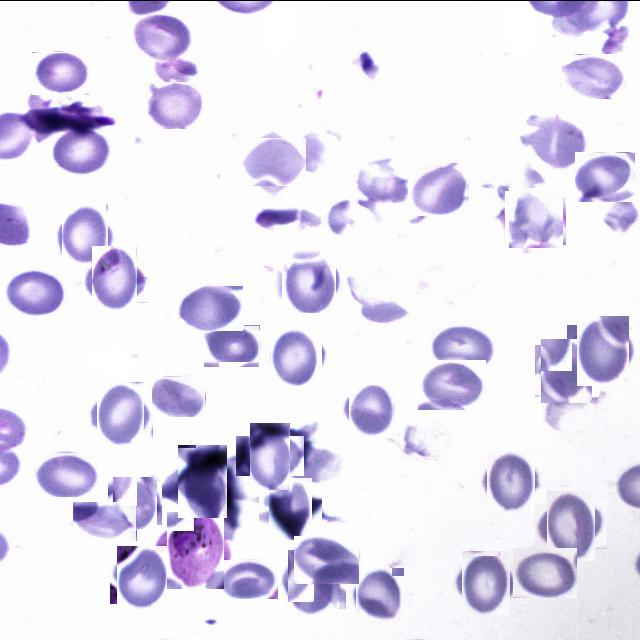difficult: (162, 516, 228, 584)
red blood cell: (172, 451, 234, 512), (572, 320, 634, 380), (540, 494, 600, 554), (526, 112, 588, 170), (113, 548, 172, 606), (279, 252, 338, 310), (418, 359, 486, 409), (538, 341, 596, 399), (284, 553, 342, 611), (429, 323, 496, 373), (408, 161, 470, 215), (507, 188, 564, 246), (245, 133, 302, 190), (86, 250, 142, 308), (513, 547, 577, 597), (458, 554, 514, 611), (175, 284, 244, 330), (92, 386, 148, 442), (294, 535, 359, 583), (268, 327, 324, 382), (4, 268, 68, 316), (575, 151, 636, 201), (484, 452, 538, 508), (53, 125, 112, 176), (58, 207, 112, 262), (243, 428, 297, 482), (562, 53, 626, 98), (145, 81, 206, 128), (132, 14, 194, 60), (264, 481, 317, 534), (36, 451, 98, 496), (353, 569, 406, 621), (72, 500, 136, 540), (32, 51, 90, 94), (219, 558, 279, 598), (346, 386, 396, 434), (110, 478, 160, 526), (203, 324, 260, 366), (152, 375, 206, 416)
